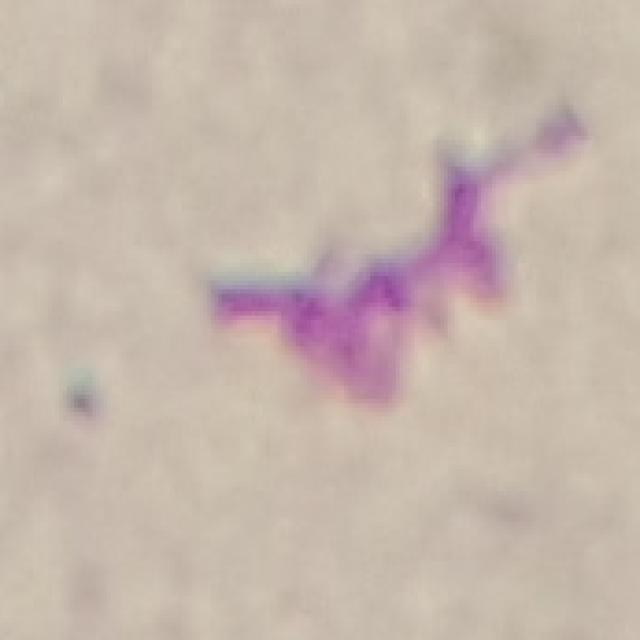non-sperm: (211, 122, 575, 410)
